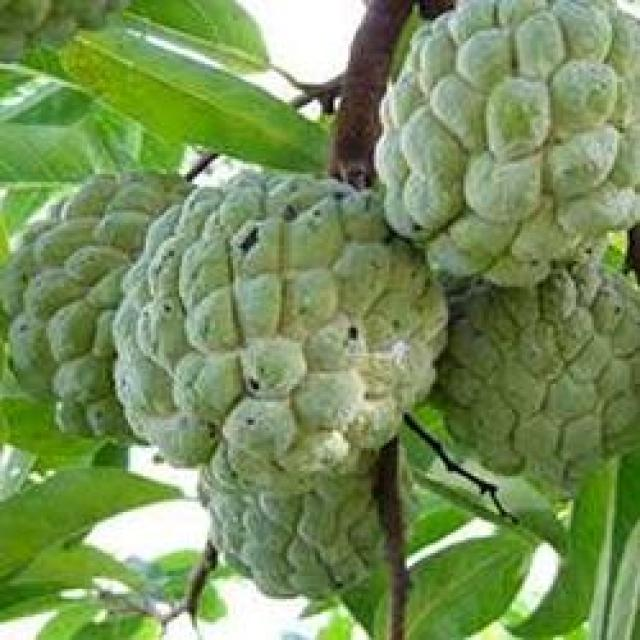apple: (116, 172, 446, 492), (374, 5, 640, 279), (427, 274, 635, 507)
